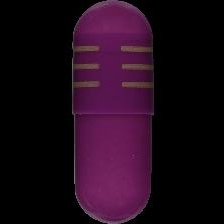63629-3311: (0, 0, 224, 224)
